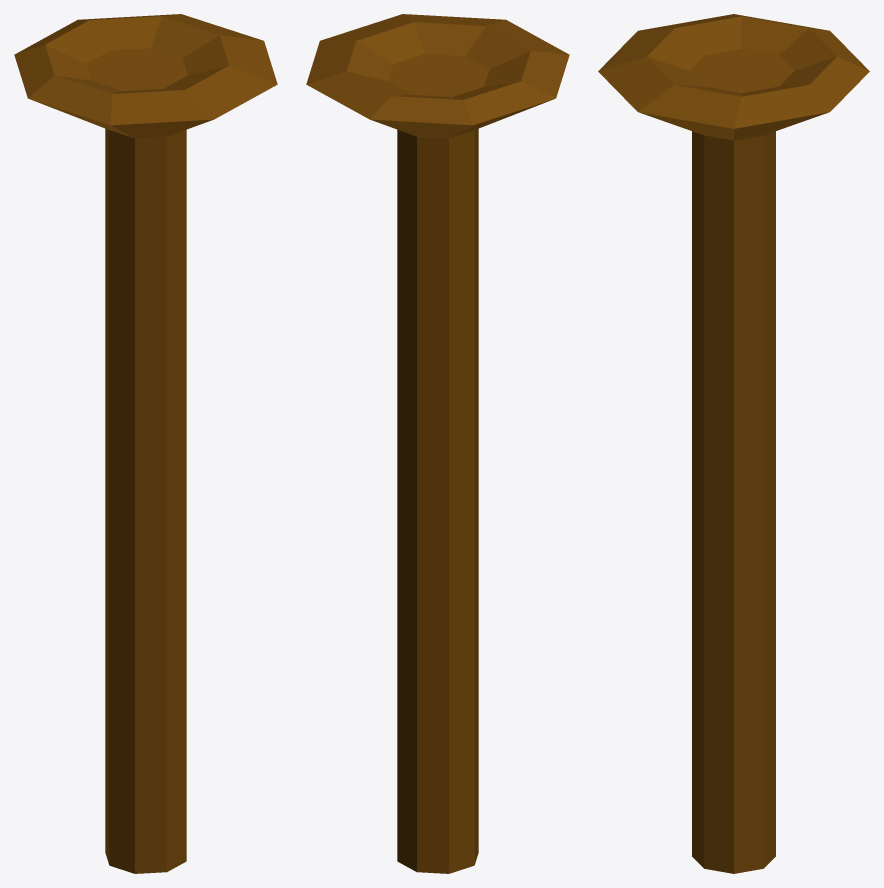
The model's file is Medieval.fbx_Tools.fbx.
3 views of the same model, side by side, from view 1: azimuth 30°, elevation 25°; view 2: azimuth 150°, elevation 25°; view 3: azimuth 270°, elevation 25° (orthographic).
Visible parts, largest first — view 1: Torch; view 2: Torch; view 3: Torch.
Boxes of the visible parts, <box> form: Torch: <box>14,14,277,873</box>; Torch: <box>306,14,569,873</box>; Torch: <box>598,14,869,873</box>.
Size of the model in its own units: 33.62 by 33.62 by 109.
